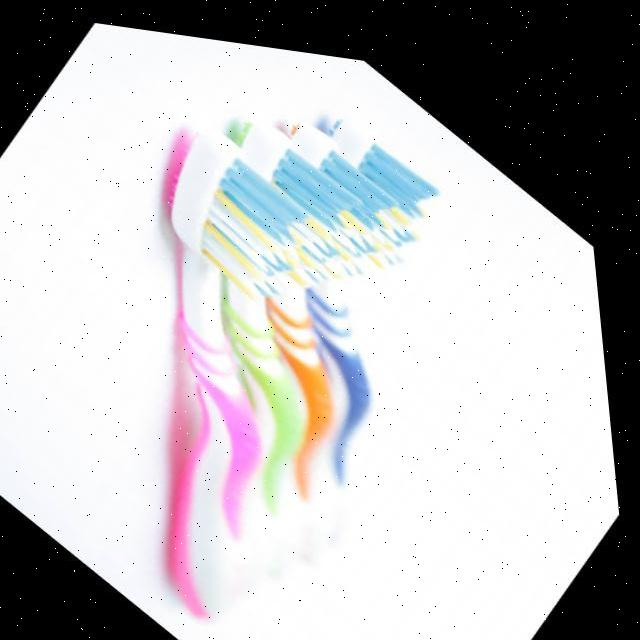toothbrush: (168, 114, 320, 610), (232, 114, 368, 576), (272, 114, 402, 547), (313, 109, 451, 511)
